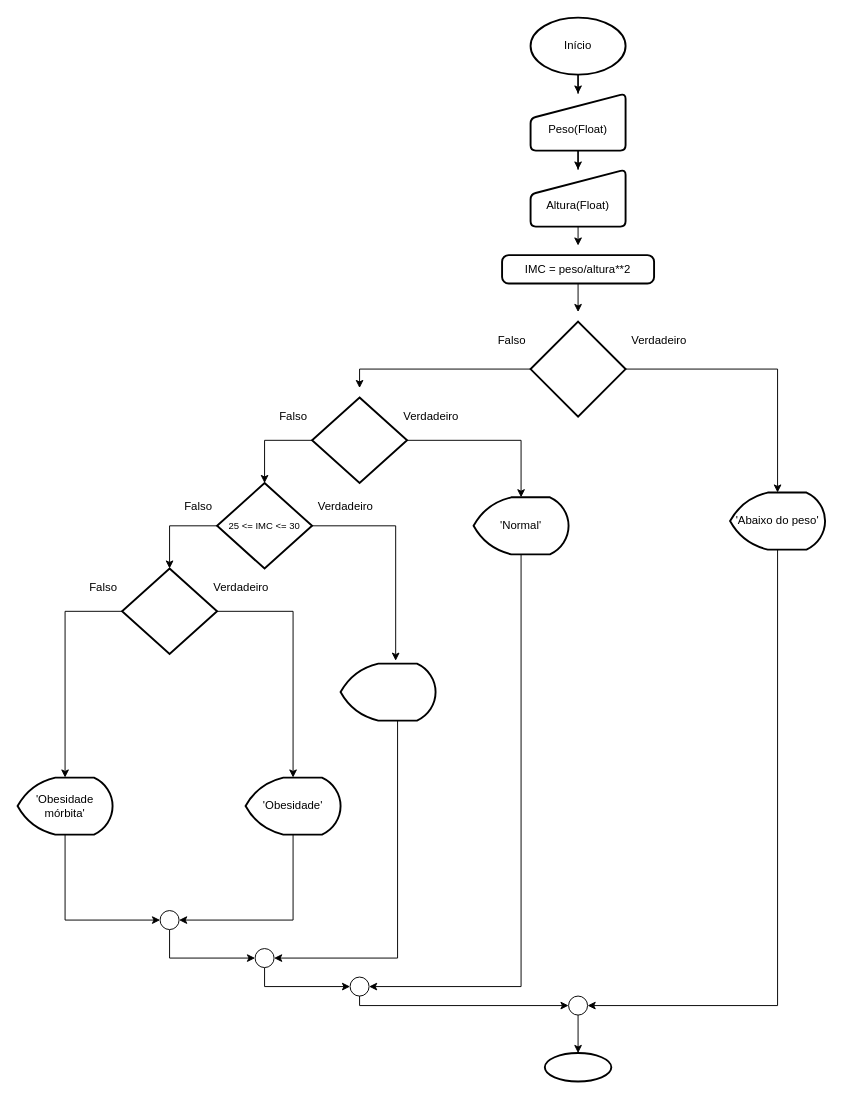
The diagram is 842 pixels wide and 1098 high, and some of its shapes have lost their labels. Here are the shapes that lost their labels. From the top down, the centre of each, then its label:
At (x=577, y=368): "IMC < 20".
At (x=359, y=440): "20 <= IMC <= 25".
At (x=169, y=611): "30 <= IMC <= 35".
At (x=387, y=691): "'Excesso de peso'".
At (x=577, y=1067): "Fim".
